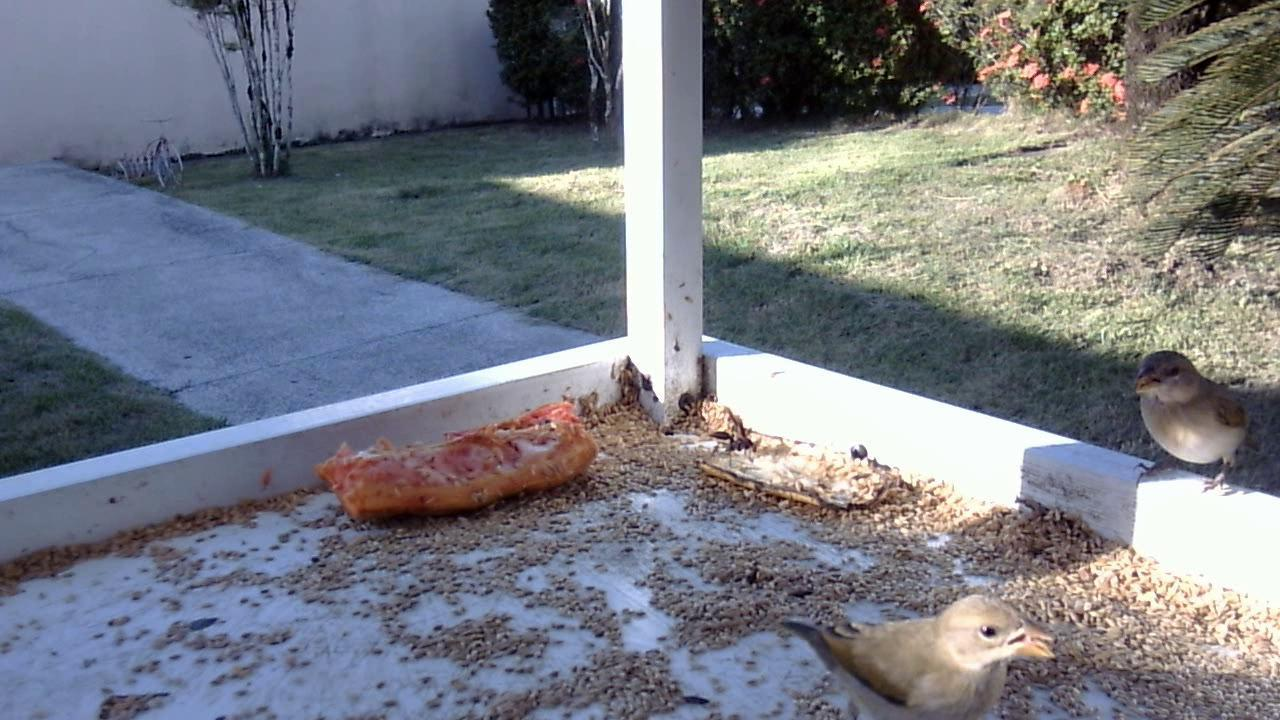canario_do_amazonas: (777, 590, 1053, 716), (1130, 349, 1257, 496)
